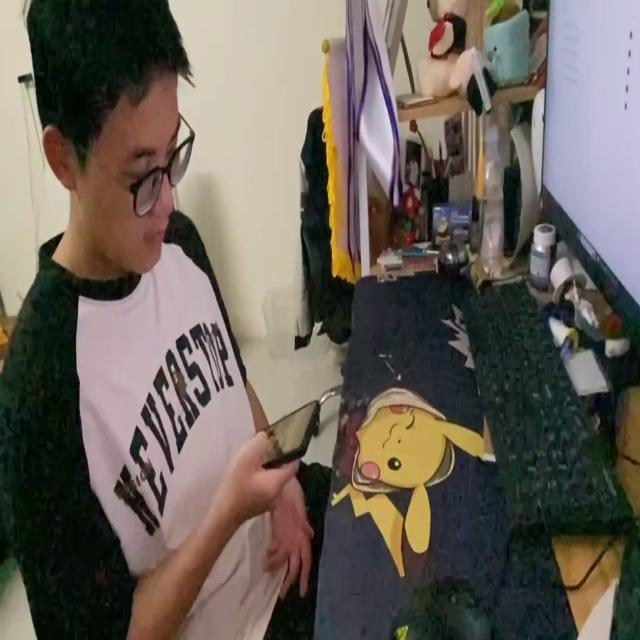laptop: (540, 0, 640, 346)
phone: (250, 402, 322, 462)
student: (2, 0, 321, 640)
